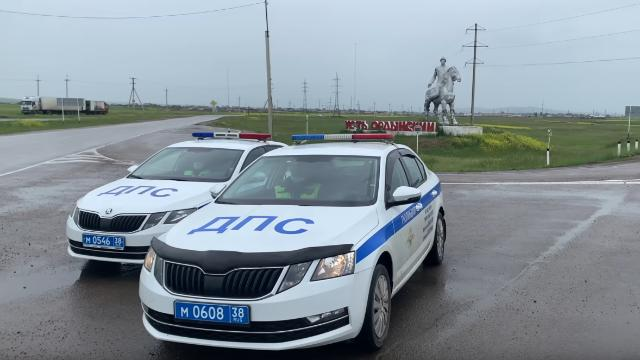non emergency car: (20, 95, 86, 116), (87, 100, 112, 114)
police car: (139, 134, 445, 348), (66, 133, 280, 266)
